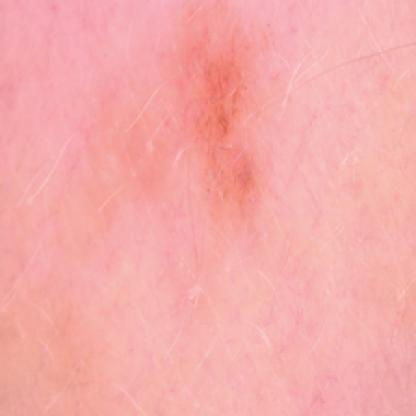benign: (182, 37, 271, 186)
